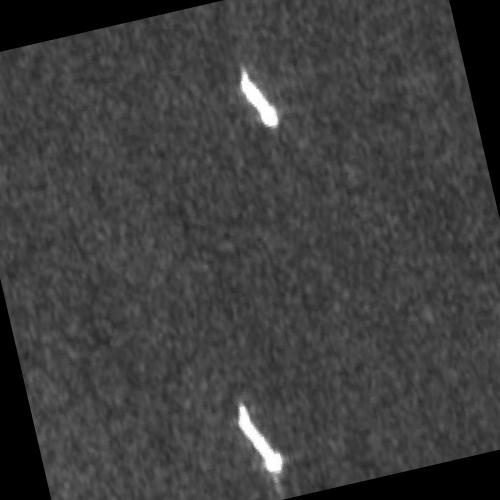ship: (237, 402, 283, 473), (238, 66, 280, 129)
